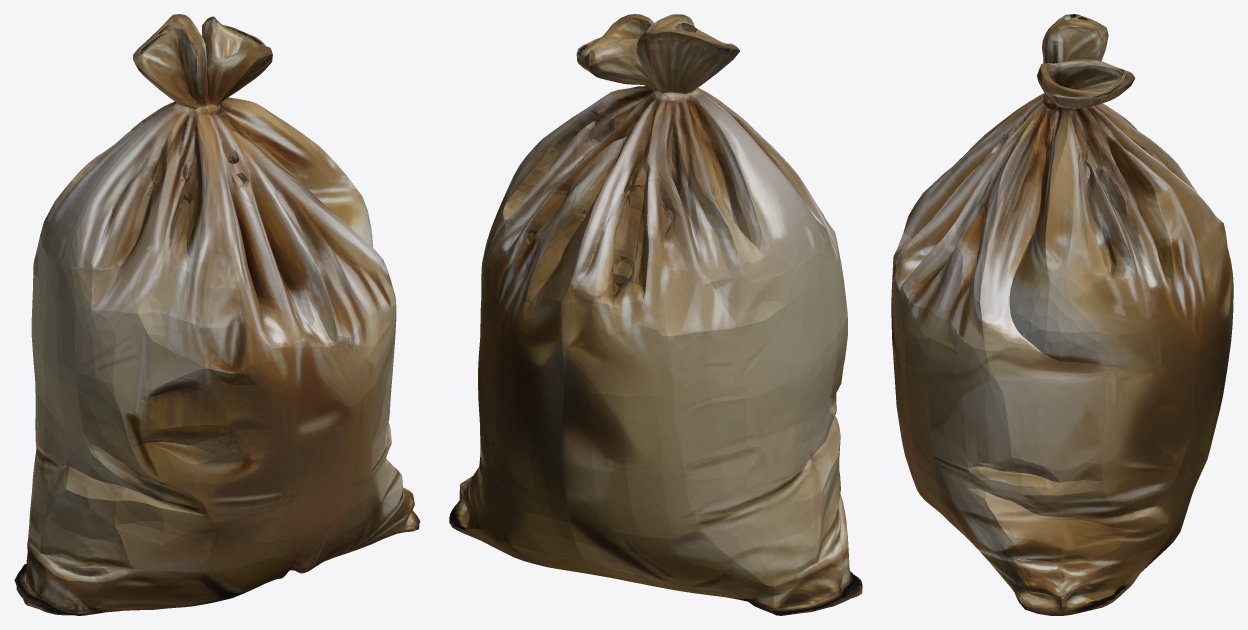
File: trash_bag_856377_20251230_114114_20251230_115227.glb
3 renders of one model, left to right at view 1: azimuth 30°, elevation 25°; view 2: azimuth 150°, elevation 25°; view 3: azimuth 270°, elevation 25°, orthographic. The views are drawn at different scales.
Visible parts, largest first — view 1: world; view 2: world; view 3: world.
Part boxes in pixels (x1,y1,x2,y2): world: [14, 14, 420, 615]; world: [449, 14, 862, 615]; world: [891, 14, 1233, 615].
Size of the model in its own units: 0.7608 by 0.9983 by 0.6252.
Materials: 1 (1 with a texture image).
